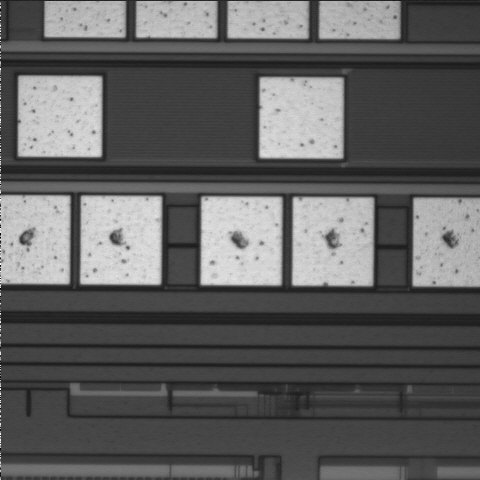pad: (201, 197, 282, 285), (81, 196, 161, 284), (293, 198, 373, 285), (18, 76, 101, 157), (260, 78, 343, 158)
